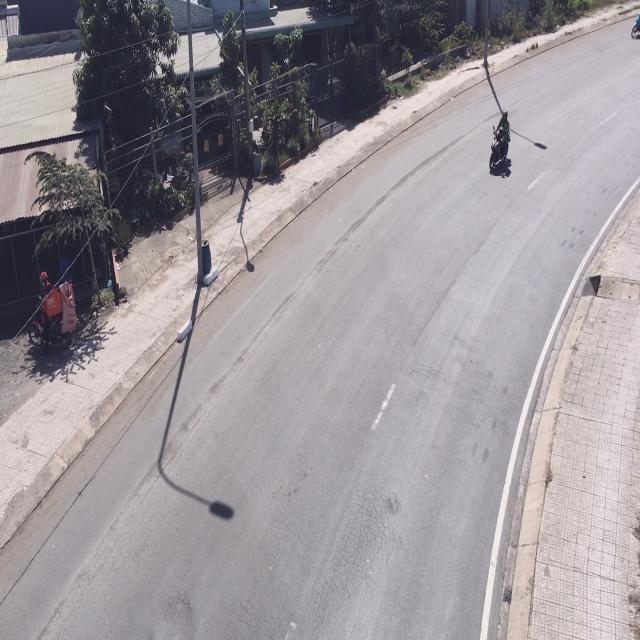motorbike: (489, 111, 512, 179), (630, 8, 640, 40)
